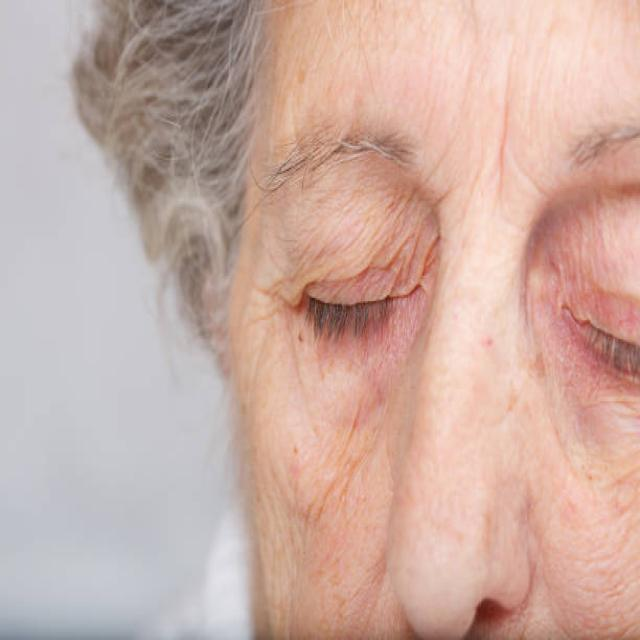Dry-Skin: (275, 349, 422, 507), (520, 430, 640, 580), (270, 495, 384, 626), (392, 387, 457, 594), (450, 0, 553, 122), (332, 531, 420, 640), (445, 136, 508, 282), (300, 28, 376, 125), (553, 40, 617, 134)
